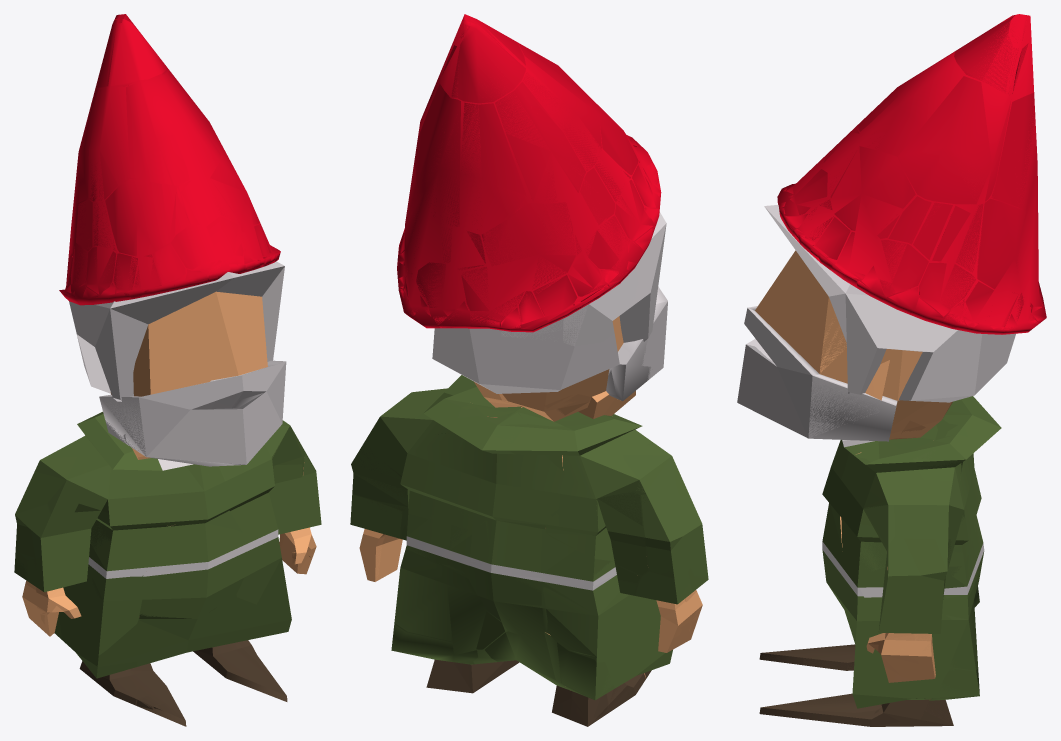
Rendered from gnome_broken.fbx.
3 renders of one model, left to right at view 1: azimuth 30°, elevation 25°; view 2: azimuth 150°, elevation 25°; view 3: azimuth 270°, elevation 25°, orthographic. The views are drawn at different scales.
Parts seen in each view (by area): view 1: man-monk-old, hat, man-monk-old_cell.071, hat_cell.068, hat_cell.089, man-monk-old_cell.081, hat_cell.002, man-monk-old_cell.030, man-monk-old_cell.086, hat_cell.062, hat_cell.059, man-monk-old_cell.025 (+22 smaller); view 2: man-monk-old_cell.071, hat, man-monk-old_cell.086, man-monk-old, hat_cell.062, man-monk-old_cell.047, hat_cell.045, hat_cell.092, hat_cell.055, hat_cell.003, man-monk-old_cell.109, man-monk-old_cell.043 (+27 smaller); view 3: man-monk-old, hat, man-monk-old_cell.071, man-monk-old_cell.086, hat_cell.024, man-monk-old_cell.081, hat_cell.055, hat_cell, hat_cell.090, hat_cell.002, hat_cell.034, hat_cell.030 (+19 smaller).
Boxes of the visible parts, <box> form: man-monk-old: <box>22,261,321,719</box>; hat: <box>59,14,280,305</box>; man-monk-old_cell.071: <box>15,360,311,726</box>; hat_cell.068: <box>105,179,176,256</box>; hat_cell.089: <box>126,81,189,185</box>; man-monk-old_cell.081: <box>99,392,262,466</box>; hat_cell.002: <box>111,19,167,86</box>; man-monk-old_cell.030: <box>92,559,142,655</box>; man-monk-old_cell.086: <box>74,272,241,459</box>; hat_cell.062: <box>77,88,100,203</box>; hat_cell.059: <box>206,216,243,261</box>; man-monk-old_cell.025: <box>90,661,138,704</box>; man-monk-old_cell.071: <box>351,287,707,724</box>; hat: <box>397,14,660,332</box>; man-monk-old_cell.086: <box>432,212,666,418</box>; man-monk-old: <box>375,212,708,715</box>; hat_cell.062: <box>495,82,585,202</box>; man-monk-old_cell.047: <box>394,550,507,649</box>; hat_cell.045: <box>481,202,575,289</box>; hat_cell.092: <box>461,102,527,229</box>; hat_cell.055: <box>414,83,460,226</box>; hat_cell.003: <box>442,22,525,103</box>; man-monk-old_cell.109: <box>542,574,619,656</box>; man-monk-old_cell.043: <box>563,267,639,346</box>; man-monk-old: <box>737,207,979,726</box>; hat: <box>777,14,1046,334</box>; man-monk-old_cell.071: <box>746,306,1001,726</box>; man-monk-old_cell.086: <box>764,205,1015,402</box>; hat_cell.024: <box>898,76,1011,204</box>; man-monk-old_cell.081: <box>757,348,895,440</box>; hat_cell.055: <box>991,92,1035,210</box>; hat_cell: <box>977,198,1025,289</box>; hat_cell.090: <box>830,146,915,230</box>; hat_cell.002: <box>954,15,1018,95</box>; hat_cell.034: <box>919,262,975,316</box>; hat_cell.030: <box>880,240,928,296</box>.
Size of the model in its own units: 59.9 by 125 by 51.86.
